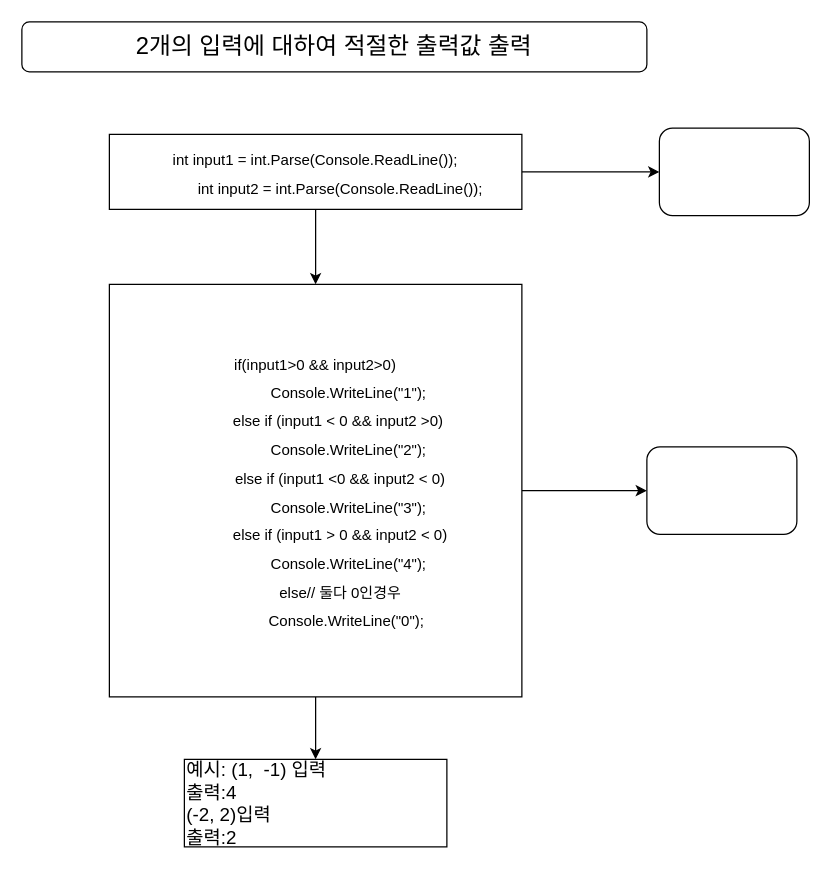
This 831x870 diagram has some shape labels left out. Here are the shapes that lost their labels. From the top down, the centre of each, then its label:
At pixel 733 171: "2개의 변수값설정".
At pixel 721 490: "if문을 이용".
